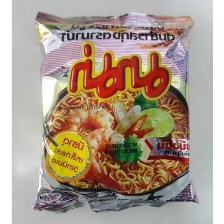snack: (27, 4, 205, 217)
